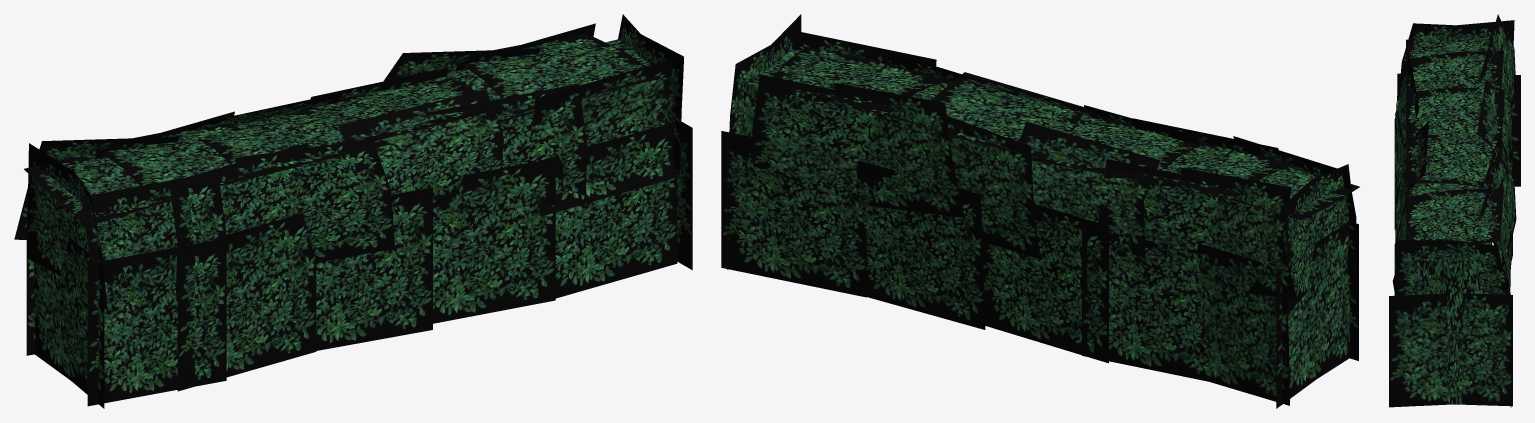
Rendered from hedge_12.fbx.
3 views of the same model, side by side, from view 1: azimuth 30°, elevation 25°; view 2: azimuth 150°, elevation 25°; view 3: azimuth 270°, elevation 25° (orthographic). The views are drawn at different scales.
Visible parts, largest first — view 1: high26, high10, high9, high25, high11, high18, high14, high27, high13, high1, high32, high12 (+16 smaller); view 2: high21, high4, high22, high3, high23, high5, high24, high7, high1, high20, high8, high6 (+16 smaller); view 3: high29, high32, high33, high19, high17, high30, high16, high2, high24, high8, high7, high1 (+17 smaller).
Boxes of the visible parts, x1,y1,x2,y2 form: high26: [433, 158, 555, 323]; high10: [87, 238, 226, 406]; high9: [177, 213, 316, 391]; high25: [539, 122, 677, 298]; high11: [316, 187, 432, 350]; high18: [338, 89, 502, 207]; high14: [235, 139, 394, 262]; high27: [533, 59, 679, 216]; high13: [81, 172, 225, 263]; high1: [34, 237, 104, 408]; high32: [463, 33, 661, 113]; high12: [169, 143, 308, 298]; high21: [721, 131, 866, 297]; high4: [982, 203, 1108, 363]; high22: [856, 160, 985, 329]; high3: [1082, 219, 1210, 381]; high23: [752, 74, 880, 186]; high5: [1197, 243, 1289, 405]; high24: [834, 83, 964, 217]; high7: [1018, 122, 1160, 257]; high1: [1276, 222, 1349, 408]; high20: [947, 116, 1040, 259]; high8: [1181, 167, 1295, 298]; high6: [1099, 159, 1225, 249]; high29: [1389, 293, 1512, 407]; high32: [1406, 188, 1503, 243]; high33: [1414, 43, 1492, 404]; high19: [1404, 133, 1502, 187]; high17: [1406, 87, 1504, 148]; high30: [1395, 240, 1512, 329]; high16: [1406, 50, 1503, 106]; high2: [1399, 20, 1514, 87]; high24: [1480, 152, 1516, 262]; high8: [1480, 14, 1515, 108]; high7: [1477, 79, 1510, 154]; high1: [1397, 73, 1520, 186].
Size of the model in its own units: 1006 by 354 by 245.
Materials: 1 (1 with a texture image).
